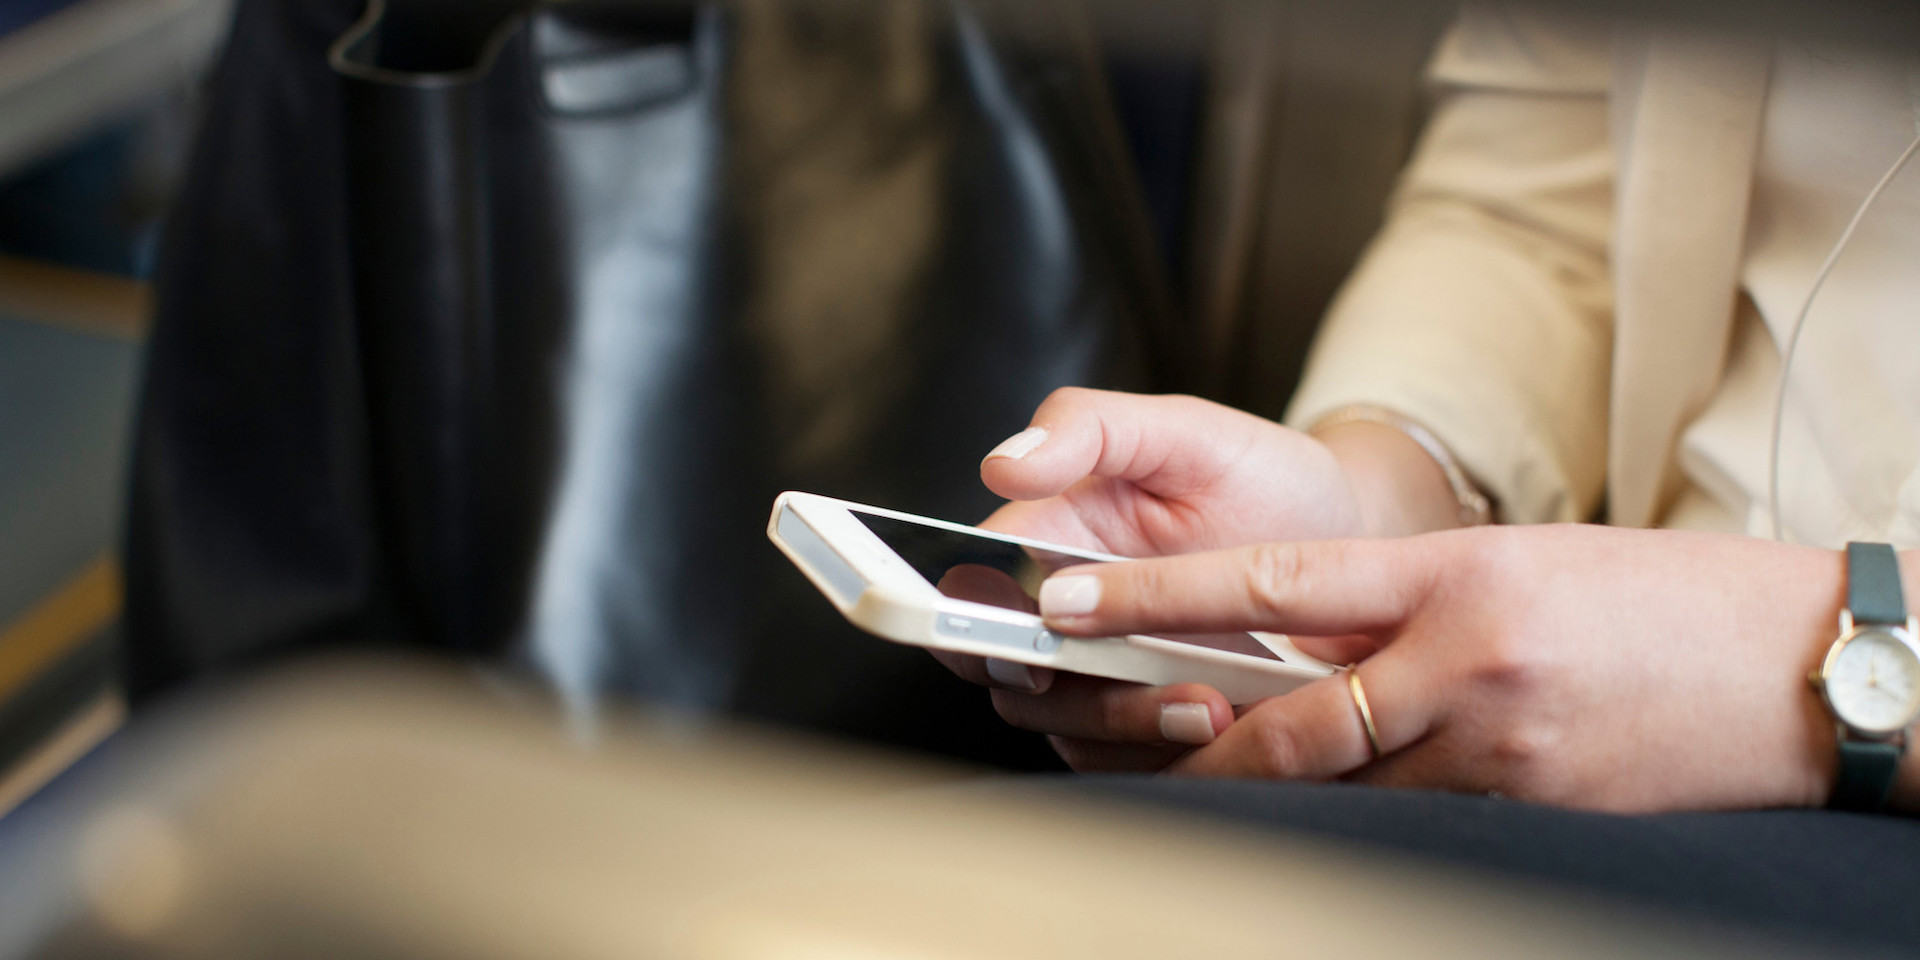smartphone: (769, 492, 1348, 707)
